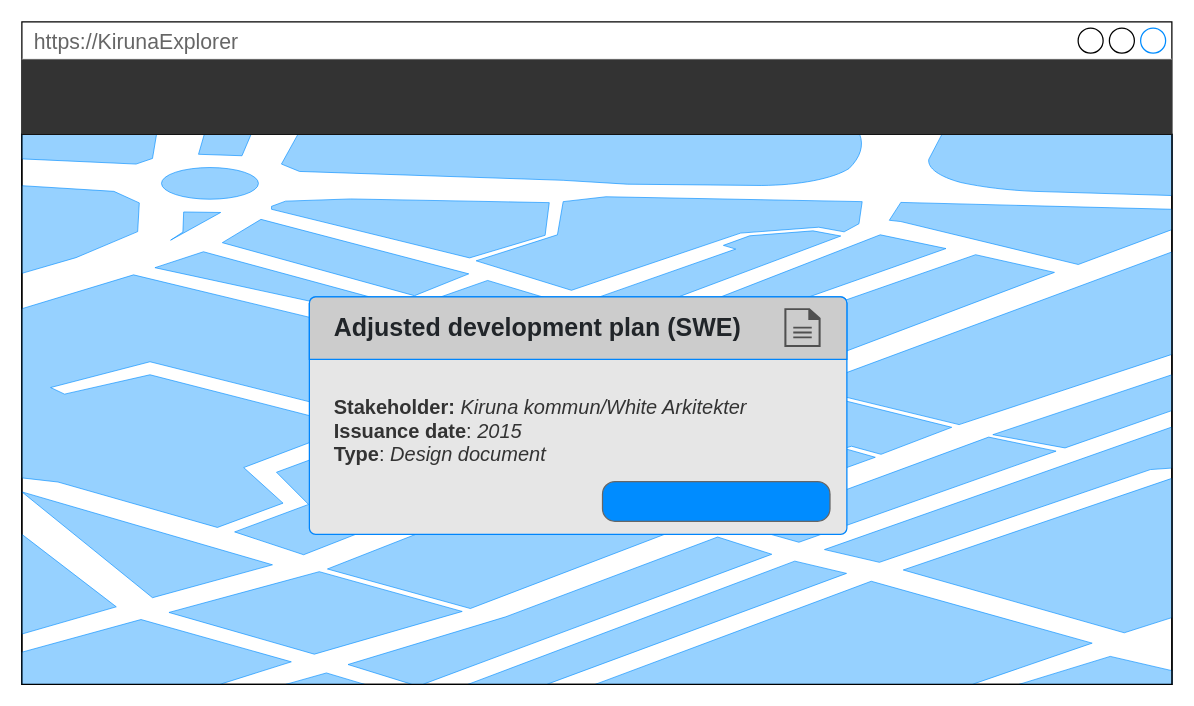
Some shapes in this 1194 by 706 pixel diagram are drawn without their labels. Each missing label, with the box of its shape:
Kiruna Explorer: (21, 59, 1171, 134)
View Description: (601, 480, 830, 521)
